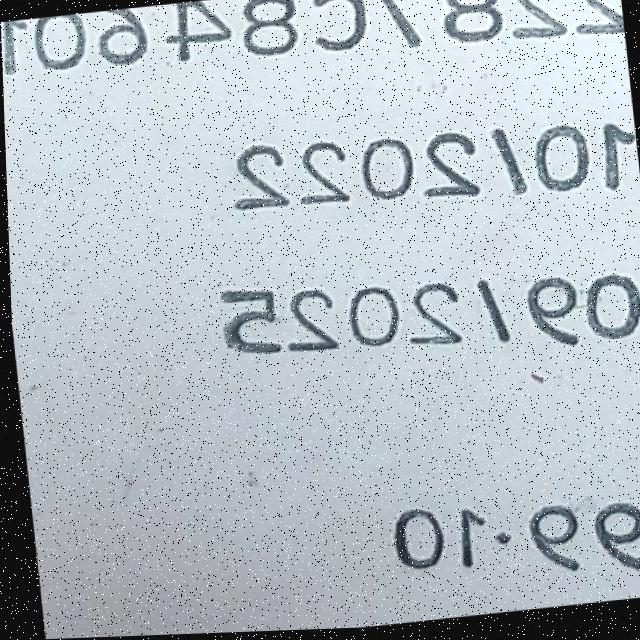sentence: (1, 0, 624, 76), (231, 127, 634, 212), (219, 277, 640, 356), (388, 506, 640, 588)
